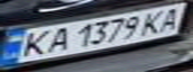1: (72, 20, 93, 50)
3: (90, 18, 112, 46)
7: (106, 16, 127, 44)
9: (121, 12, 148, 41)
A: (154, 4, 190, 34), (42, 25, 72, 54)
K: (15, 28, 54, 60), (136, 8, 169, 37)
